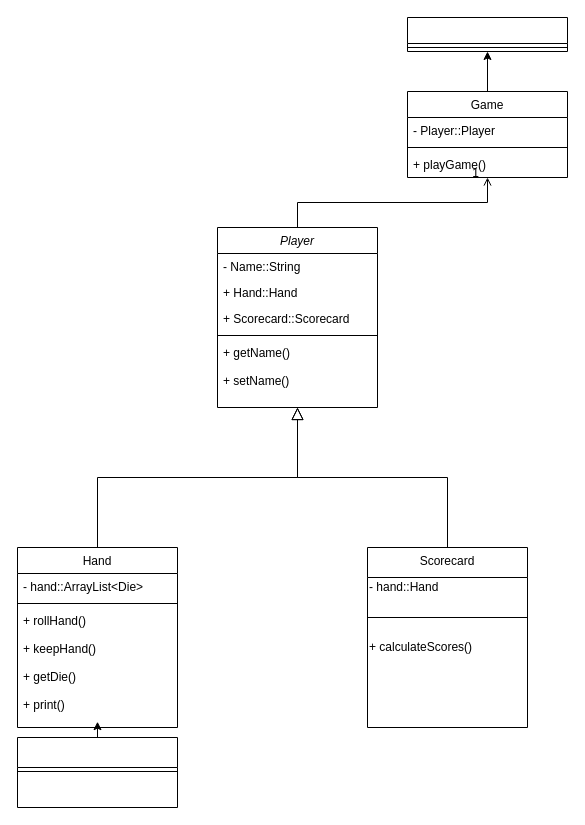
Image size: 585x825. Some labels were removed from this diagram. Each missing label, with the centre of its shape:
Die: point 97,772
Yahtzee: point 487,34
